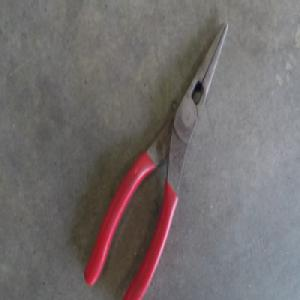Pliers: (80, 25, 227, 297)
